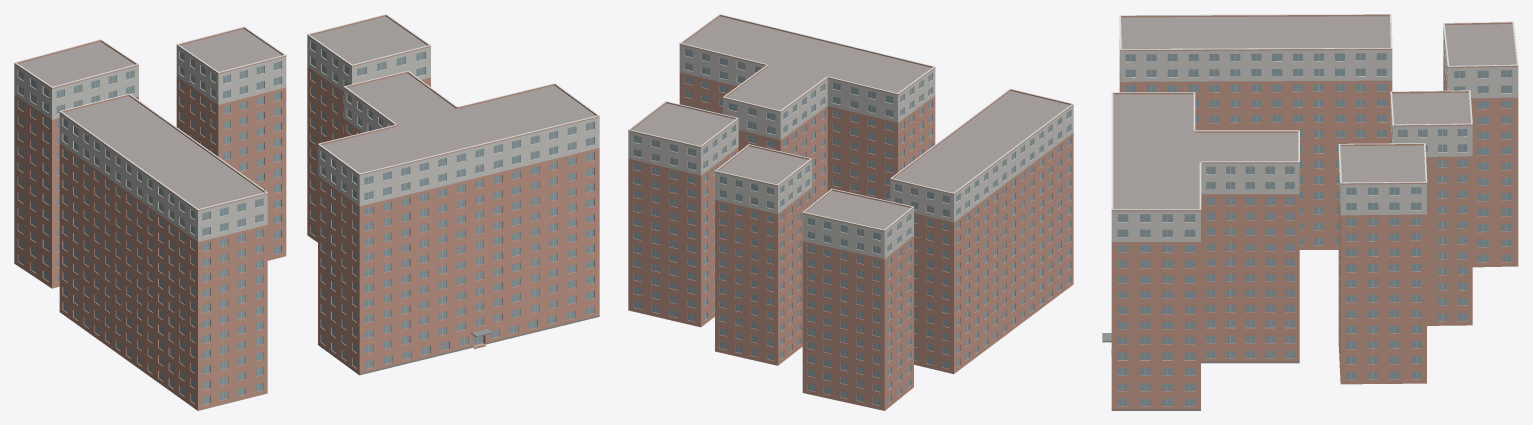
The picture shows the model from 3 angles, left to right: view 1: azimuth 30°, elevation 25°; view 2: azimuth 150°, elevation 25°; view 3: azimuth 270°, elevation 25°; orthographic projection. The views are drawn at different scales.
Parts seen in each view (by area): view 1: b16784614__wall, b16784614__glass, b16784614__roof, b16784614__wall2, b16784614__frame, b16784614__trim, b16784614__parapet, b16784614__base; view 2: b16784614__wall, b16784614__glass, b16784614__roof, b16784614__wall2, b16784614__trim, b16784614__frame, b16784614__parapet; view 3: b16784614__wall, b16784614__roof, b16784614__glass, b16784614__wall2, b16784614__trim, b16784614__parapet, b16784614__frame, b16784614__base.
Part boxes in pixels (x1,y1,x2,y2): b16784614__wall: [14, 67, 599, 410]; b16784614__glass: [18, 42, 594, 404]; b16784614__roof: [18, 16, 595, 208]; b16784614__wall2: [14, 36, 599, 241]; b16784614__frame: [21, 43, 590, 403]; b16784614__trim: [14, 14, 599, 210]; b16784614__parapet: [14, 15, 599, 211]; b16784614__base: [318, 315, 599, 375]; b16784614__wall: [628, 72, 1073, 410]; b16784614__glass: [633, 49, 1070, 405]; b16784614__roof: [632, 16, 1069, 229]; b16784614__wall2: [628, 45, 1073, 259]; b16784614__trim: [628, 14, 1073, 230]; b16784614__frame: [637, 50, 1068, 404]; b16784614__parapet: [628, 15, 1073, 231]; b16784614__wall: [1111, 57, 1518, 409]; b16784614__roof: [1113, 16, 1516, 208]; b16784614__glass: [1117, 53, 1512, 406]; b16784614__wall2: [1111, 28, 1518, 241]; b16784614__trim: [1111, 14, 1518, 210]; b16784614__parapet: [1111, 14, 1518, 211]; b16784614__frame: [1122, 53, 1506, 405]; b16784614__base: [1111, 361, 1299, 410].
Bounding box in the file's own units: 98.39 × 47.55 × 88.38.
